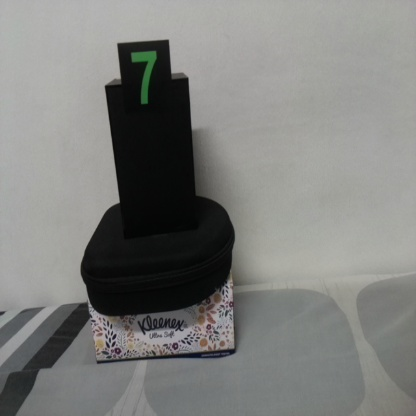id_7: (119, 43, 171, 125)
